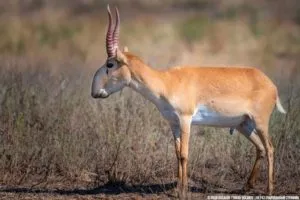saiga: (92, 6, 281, 195)
